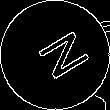N_SW: (23, 25, 87, 85)
